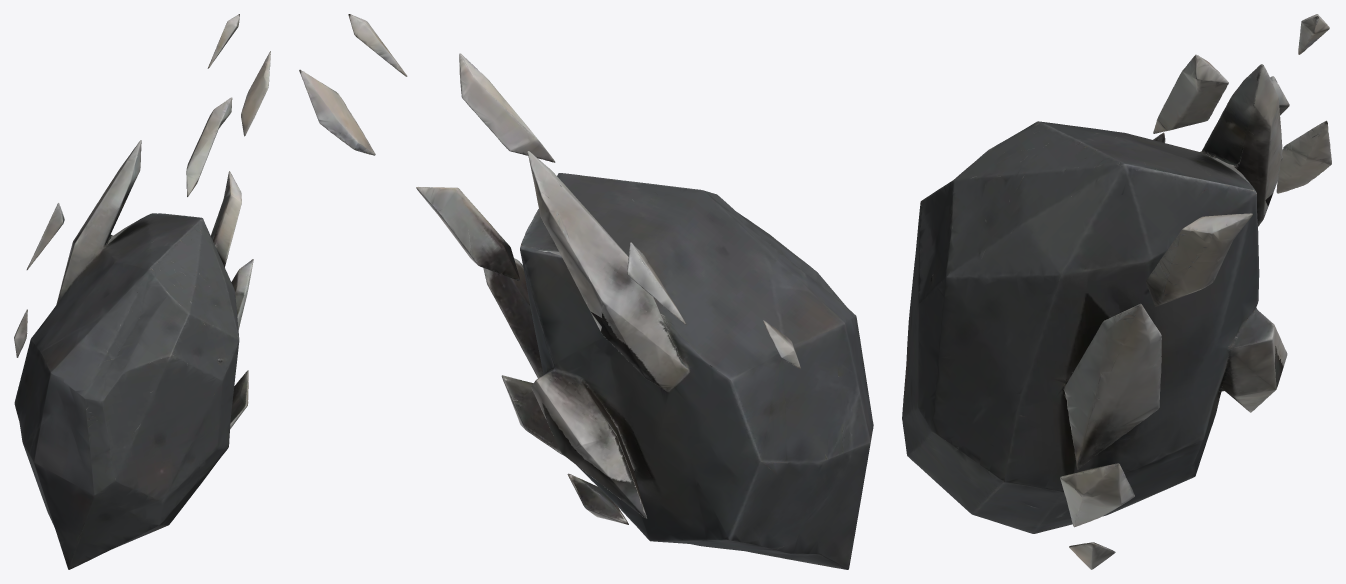
File: model.opt.glb
3 renders of one model, left to right at view 1: azimuth 30°, elevation 25°; view 2: azimuth 150°, elevation 25°; view 3: azimuth 270°, elevation 25°, orthographic. The views are drawn at different scales.
Size of the model in its own units: 1.65 by 2 by 1.14.
Materials: 1 (1 with a texture image).
